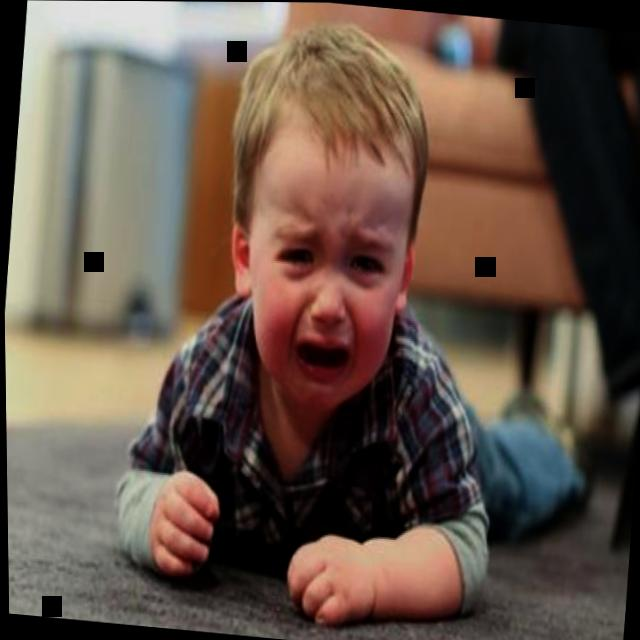Fall-Detected: (79, 0, 627, 640)
